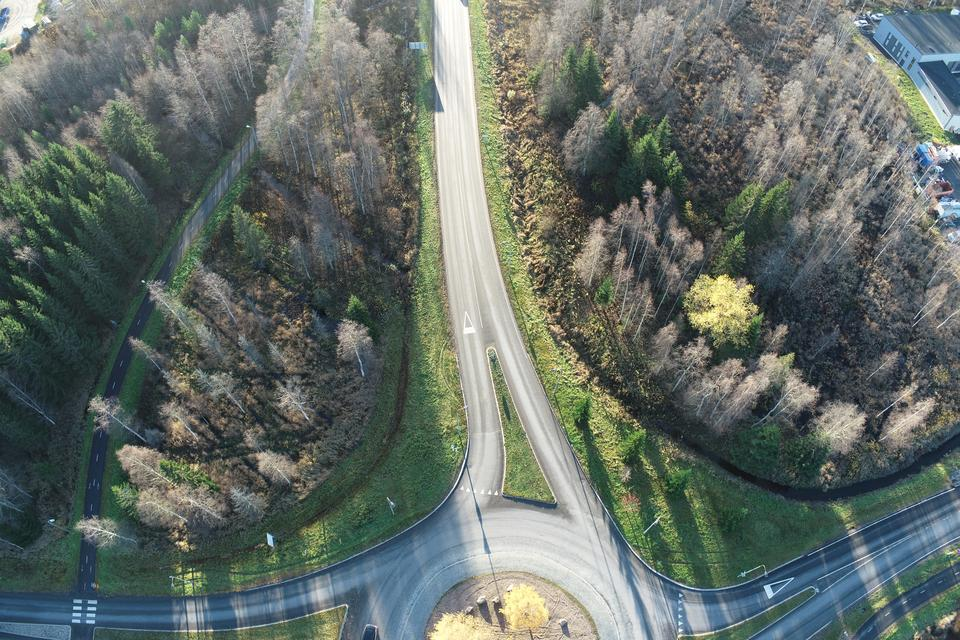intersection: (58, 563, 128, 640)
roundabout: (284, 442, 806, 640)
